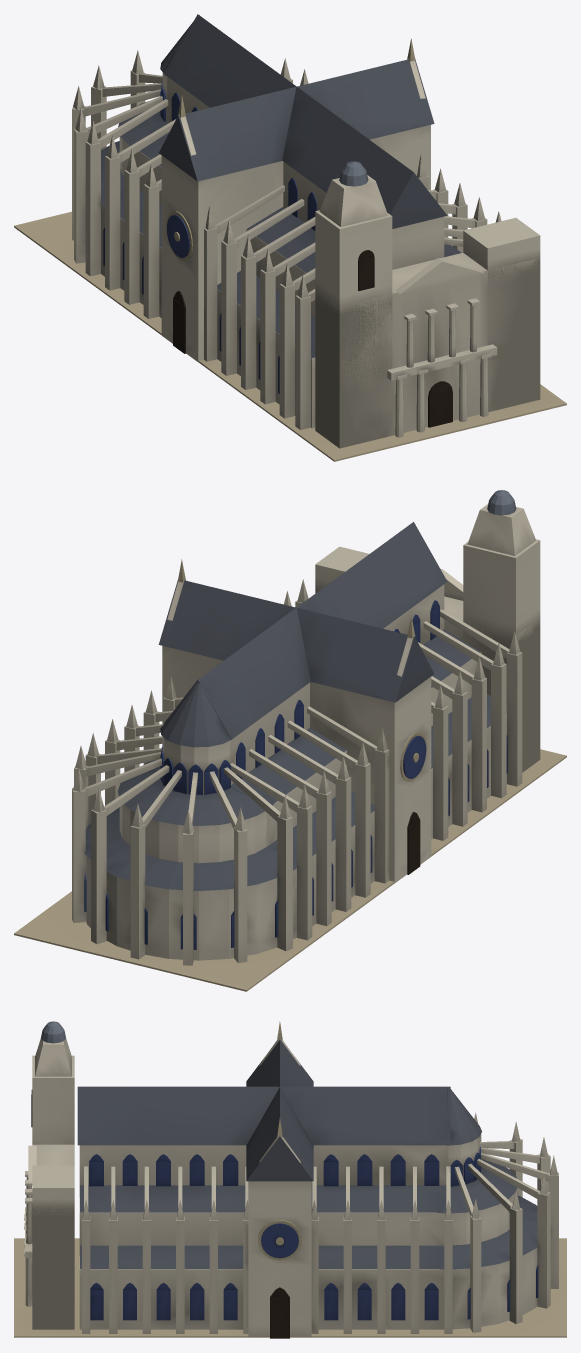
The model's file is saint-eustache.glb.
The picture shows the model from 3 angles, top to bottom: view 1: azimuth 30°, elevation 25°; view 2: azimuth 150°, elevation 25°; view 3: azimuth 270°, elevation 25°; orthographic projection. The views are drawn at different scales.
Visible parts, largest first — view 1: p1_roofs, p2_front, p0_walls; view 2: p1_roofs, p0_walls, p2_front; view 3: p1_roofs, p0_walls, p2_front.
Part boxes in pixels (x1,y1,x2,y2): p1_roofs: [72, 14, 501, 429]; p2_front: [315, 161, 540, 448]; p0_walls: [14, 38, 566, 461]; p1_roofs: [72, 522, 522, 965]; p0_walls: [14, 559, 566, 991]; p2_front: [315, 490, 540, 772]; p1_roofs: [77, 1040, 558, 1333]; p0_walls: [14, 1021, 566, 1338]; p2_front: [24, 1021, 74, 1329].
Bounding box in the file's own units: 45.45 × 49.4 × 105.
